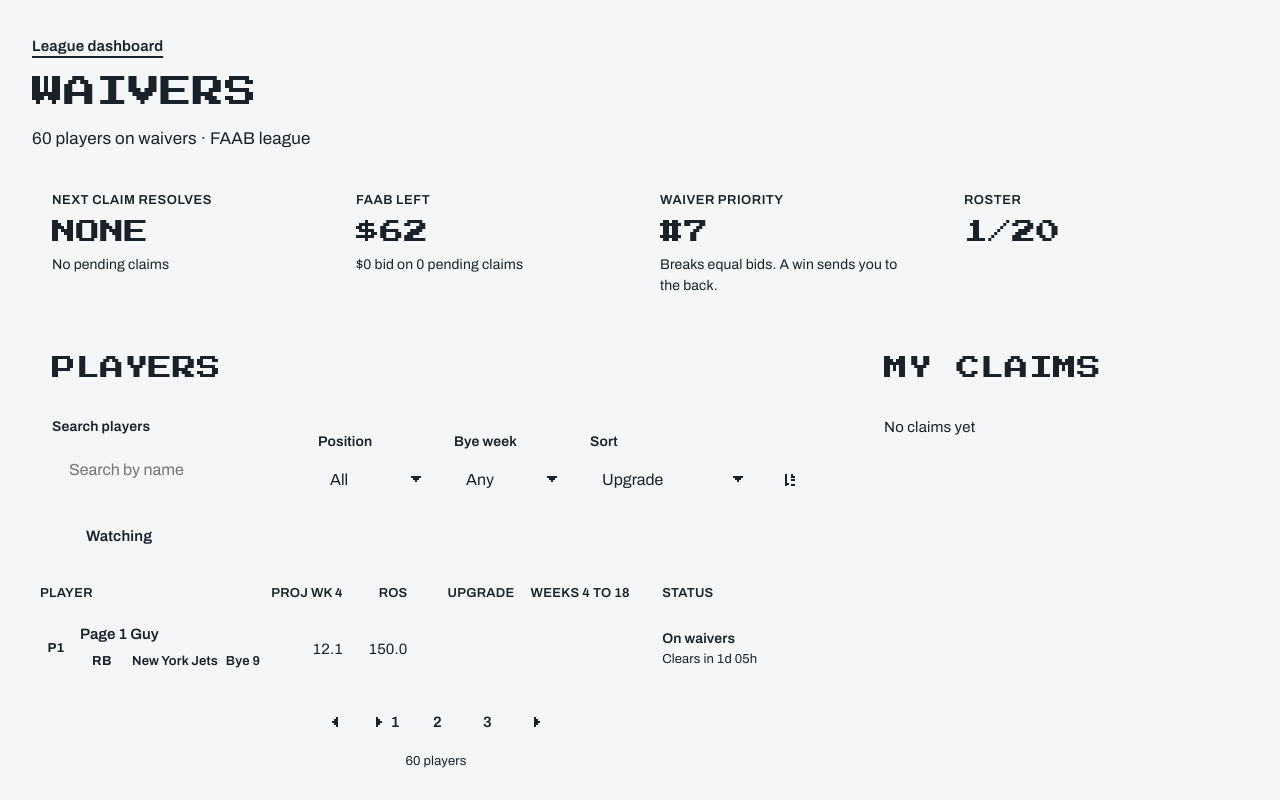
Test: paging reads the next page from the server and lives in the URL
Expected: the button "Page 1 Guy" is shown, [80,612,159,656]
Step 1. Click the button named "page 2" → (437, 722), box [415,700,459,744]
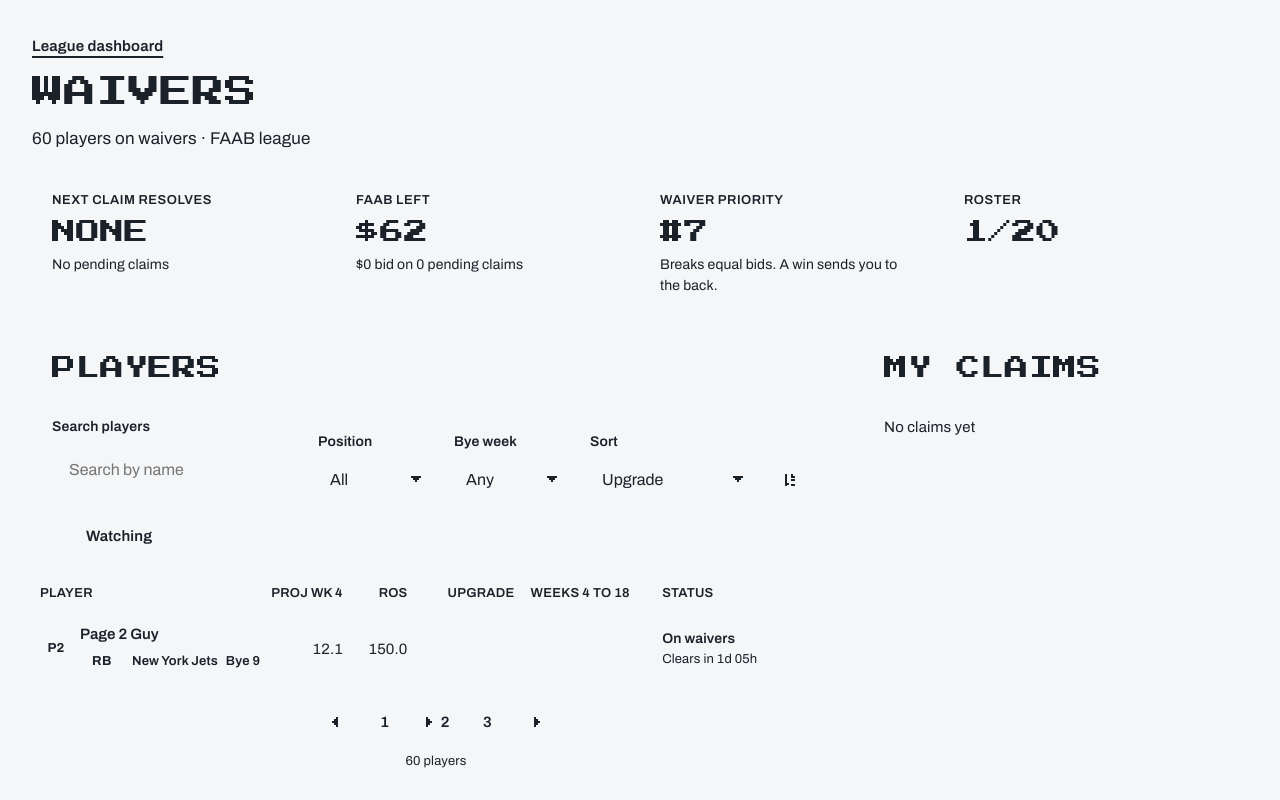
Expected: the button "Page 2 Guy" is shown, [80,612,159,656]
